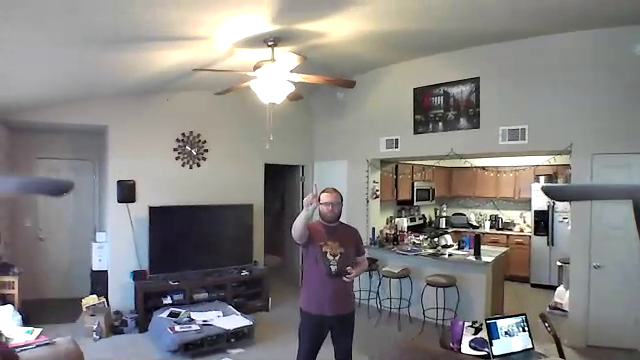up: (300, 179, 318, 212)
